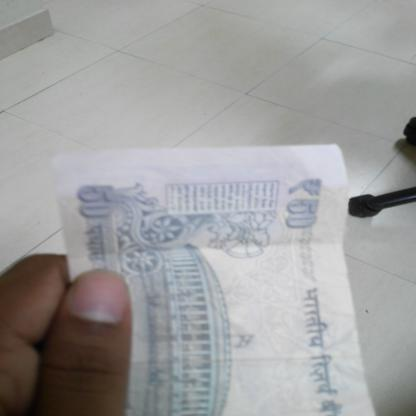Old50Back: (53, 144, 376, 416)
